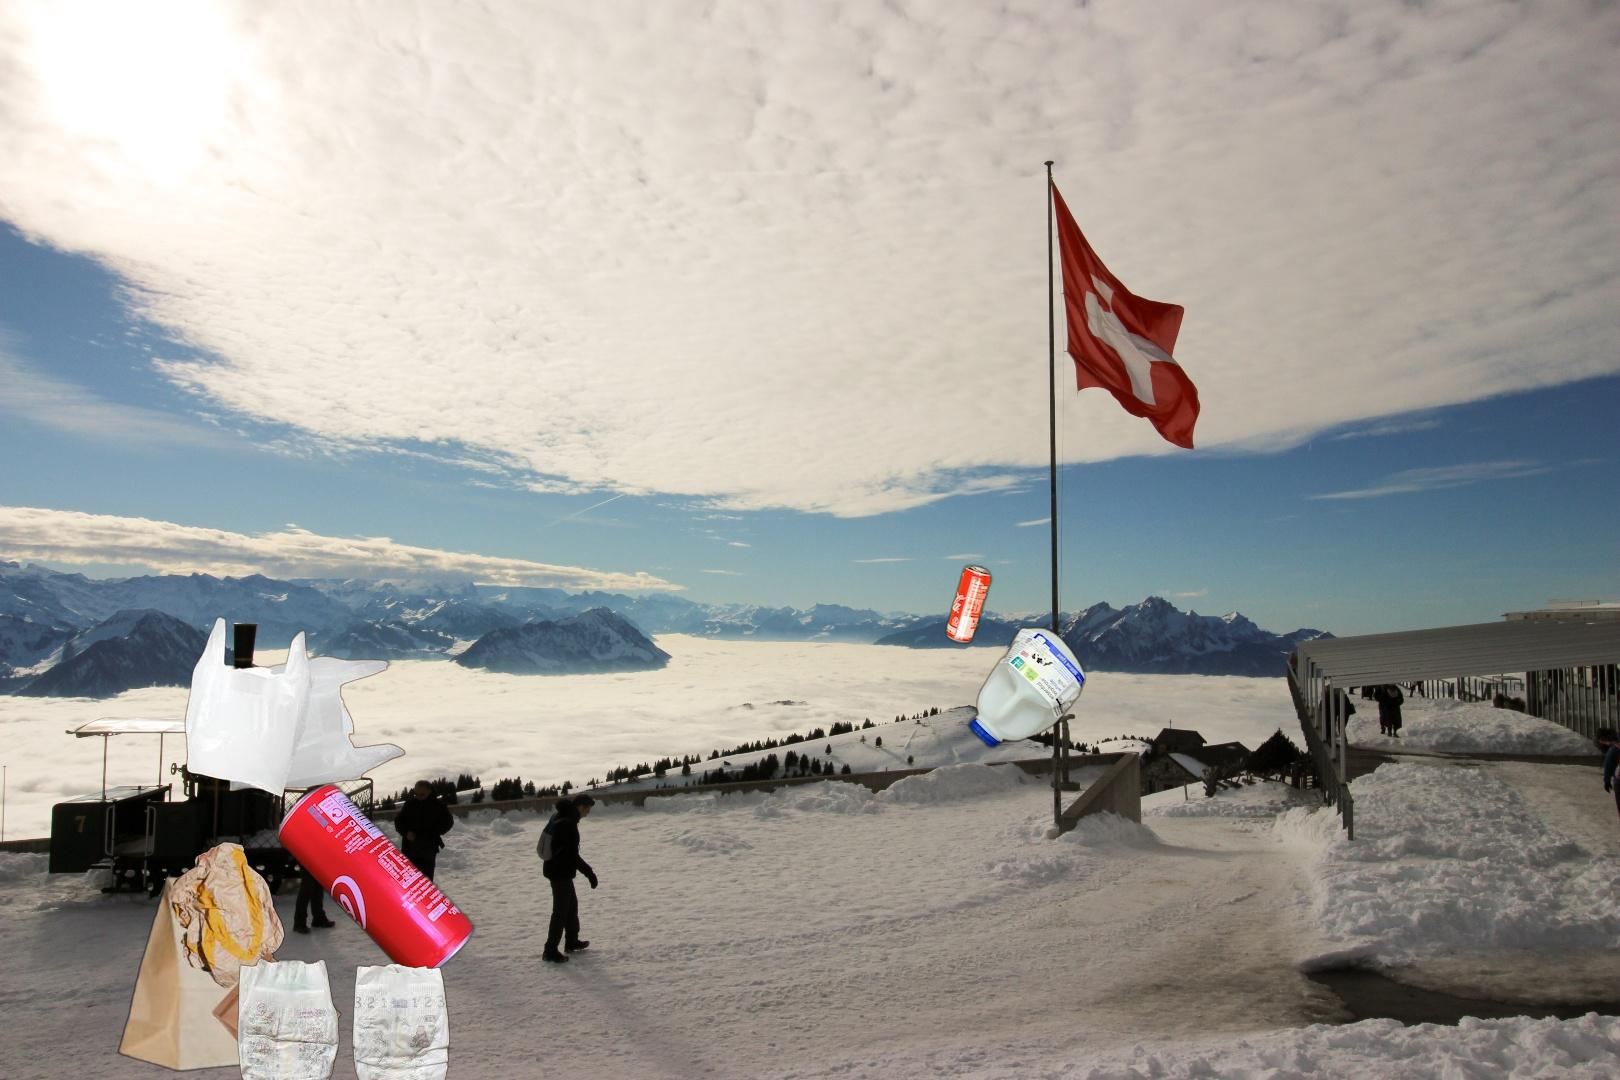metal-cans: (272, 777, 479, 985), (941, 559, 996, 650)
paper-bag: (115, 838, 344, 1080)
plastic-bag: (182, 614, 411, 799)
plastic-bottles: (965, 621, 1088, 755)
trash: (235, 953, 453, 1080)
